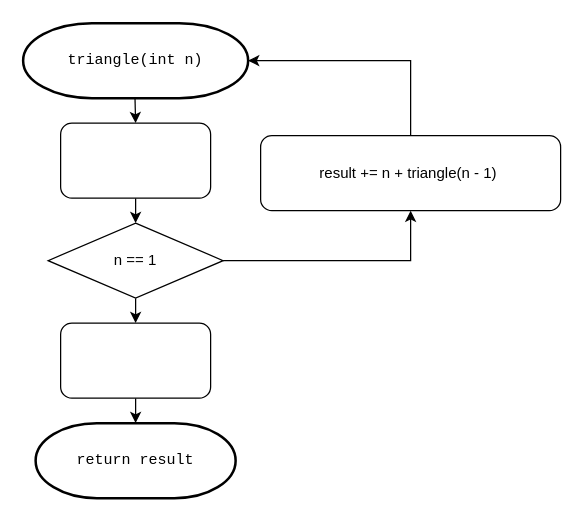
This 583x520 diagram has some shape labels left out. Each missing label, with the centre of its shape:
int result = 0: (135,160)
result += 1: (135,360)
